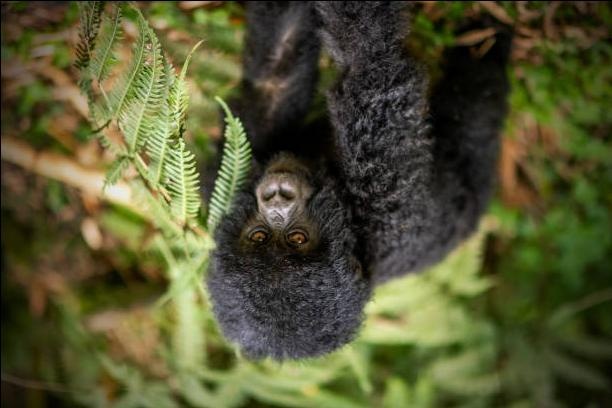goriile_montagne: (124, 0, 505, 367)
